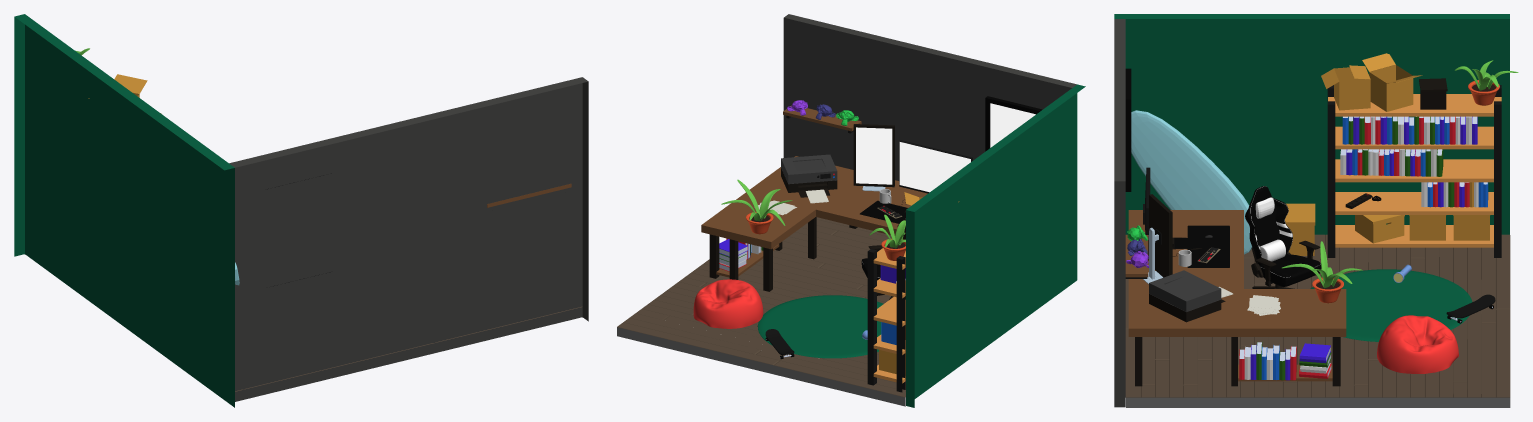
Rendered from room_2.3_camera.gltf.
3 views of the same model, side by side, from view 1: azimuth 30°, elevation 25°; view 2: azimuth 150°, elevation 25°; view 3: azimuth 270°, elevation 25° (orthographic). The views are drawn at different scales.
Parts seen in each view (by area): view 1: y-wall, x-wall; view 2: x-wall, y-wall, desk, rag, pillpw_chair, basement, shelf-legs, main_monitor_screen, code_monitor_screen, printer, desk-legs, shelf (+27 smaller); view 3: x-wall, desk, shelf, surf, rag, y-wall, basement, pillpw_chair, shelf-legs, printer, Cube.009, Plane.015 (+53 smaller).
Part boxes in pixels (x1,y1,x2,y2): y-wall: (229,77,588,401); x-wall: (14,14,234,407); x-wall: (906,84,1085,407); y-wall: (783,14,1076,180); desk: (701,156,927,249); rag: (757,295,883,358); pillpw_chair: (693,279,763,328); basement: (617,327,905,406); shelf-legs: (867,249,905,392); main_monitor_screen: (899,142,970,192); code_monitor_screen: (856,127,892,184); printer: (781,154,837,197); desk-legs: (709,217,857,291); shelf: (873,248,905,383); x-wall: (1114,14,1509,234); desk: (1128,210,1346,336); shelf: (1328,94,1501,247); surf: (1131,110,1252,254); rag: (1310,269,1472,341); y-wall: (1114,19,1125,407); basement: (1126,397,1510,407); pillpw_chair: (1377,315,1458,373); shelf-legs: (1327,85,1501,257); printer: (1149,270,1225,322); Cube.009: (1362,53,1422,111); Plane.015: (1245,186,1292,265).
Bounding box in the file's own units: 2.06 × 1.3 × 2.1.
